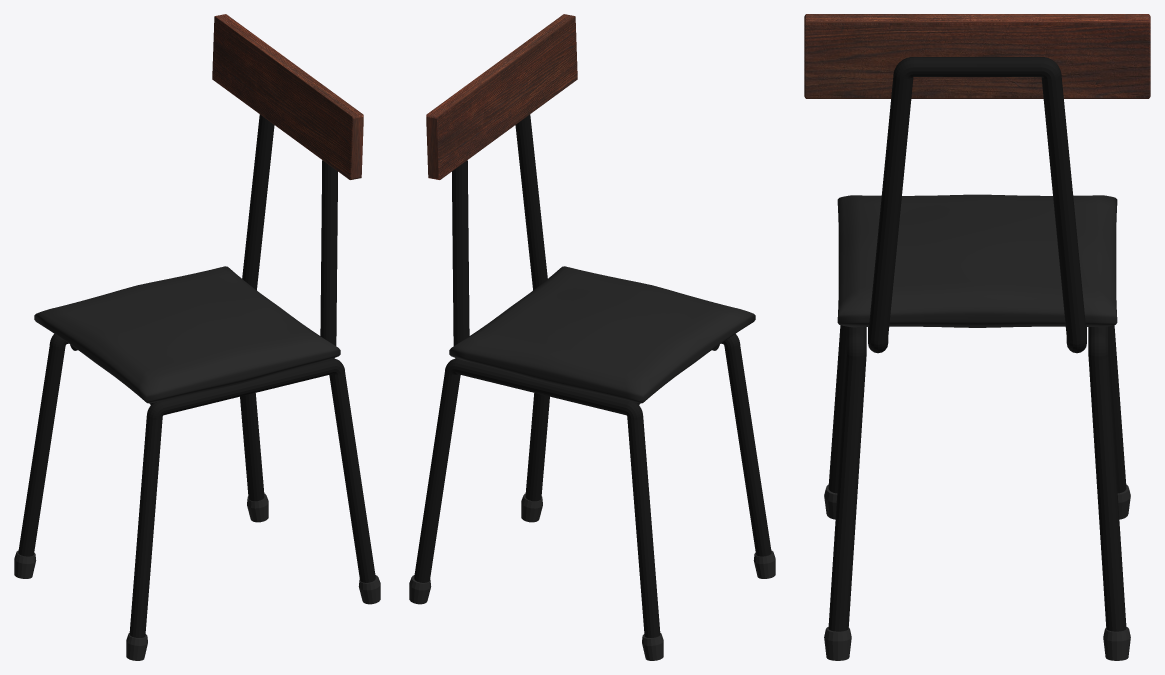
The model's file is Chair.fbx.
The picture shows the model from 3 angles, left to right: view 1: azimuth 30°, elevation 25°; view 2: azimuth 150°, elevation 25°; view 3: azimuth 270°, elevation 25°; orthographic projection. The views are drawn at different scales.
Parts seen in each view (by area): view 1: Chair; view 2: Chair; view 3: Chair.
Part boxes in pixels (<box>): Chair: <box>14,14,380,660</box>; Chair: <box>409,14,775,660</box>; Chair: <box>804,14,1150,660</box>.
Size of the model in its own units: 287 by 546 by 274.
